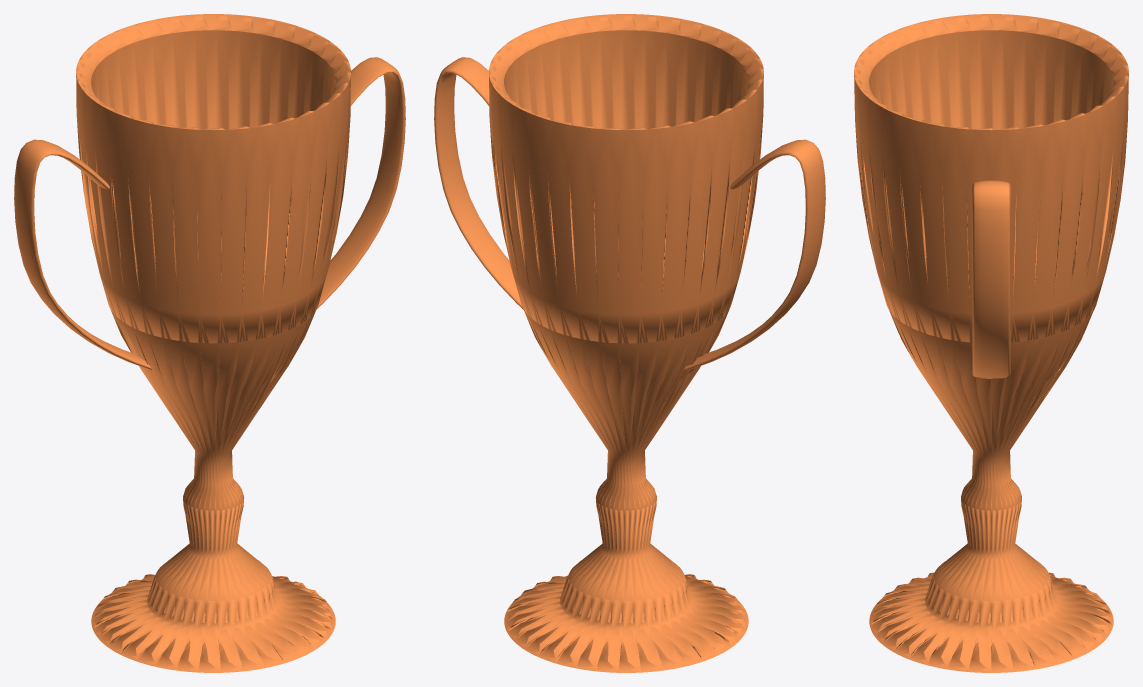
The model's file is Trophy.FBX.
The picture shows the model from 3 angles, left to right: view 1: azimuth 30°, elevation 25°; view 2: azimuth 150°, elevation 25°; view 3: azimuth 270°, elevation 25°; orthographic projection.
Visible parts, largest first — view 1: Line01, Line02, Line03; view 2: Line01, Line02, Line03; view 3: Line01, Line02.
Part boxes in pixels (left/top/right/bottom): Line01: left=76, top=14, right=350, bottom=672; Line02: left=316, top=57, right=405, bottom=309; Line03: left=14, top=139, right=152, bottom=369; Line01: left=489, top=14, right=763, bottom=672; Line02: left=434, top=57, right=523, bottom=309; Line03: left=684, top=139, right=825, bottom=370; Line01: left=854, top=14, right=1128, bottom=672; Line02: left=972, top=180, right=1010, bottom=378.
Size of the model in its own units: 206 by 286 by 130.
